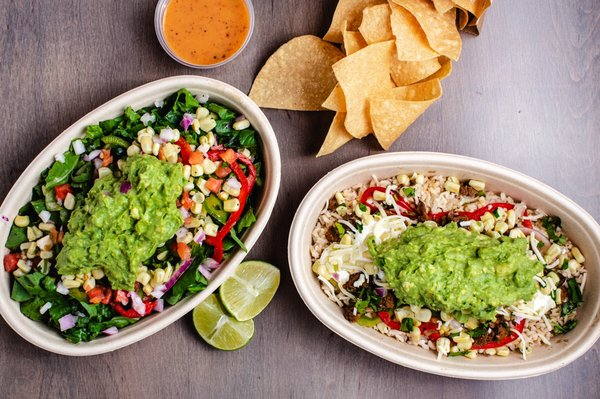curry: (373, 220, 545, 324), (58, 156, 185, 291)
sushi: (0, 75, 283, 358), (287, 151, 600, 386), (155, 1, 255, 69)
